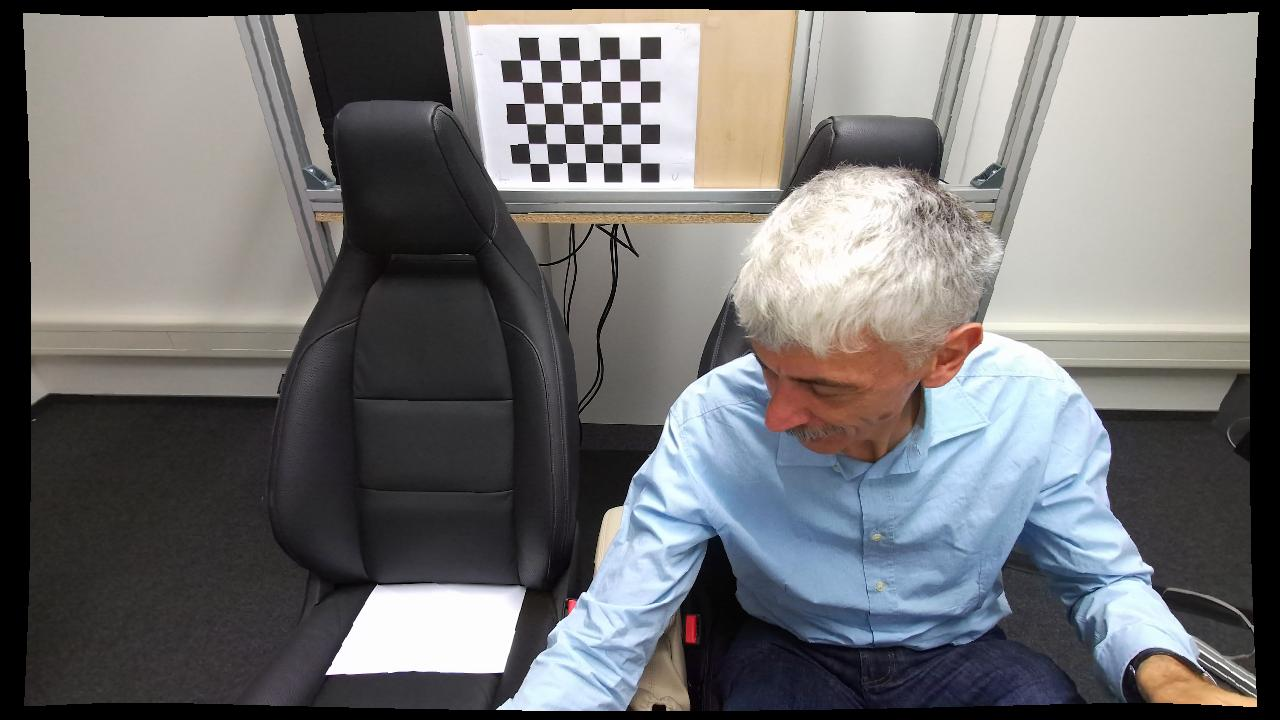Distracted: (494, 157, 1159, 710)
